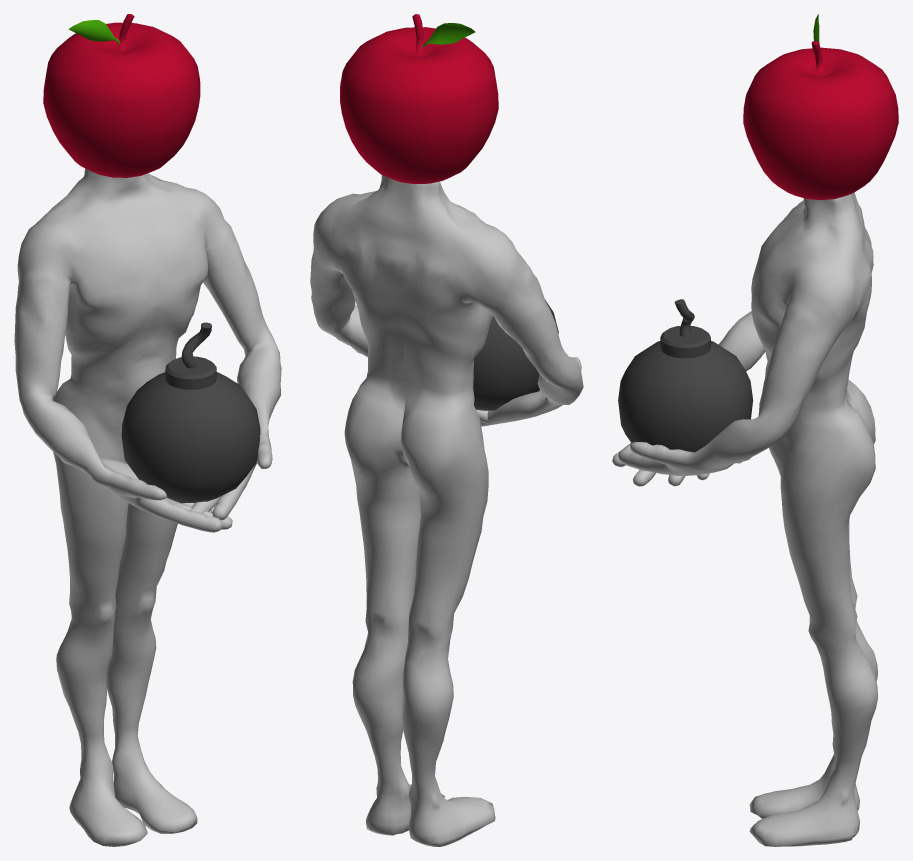
The model's file is applebombHuman.fbx.
3 renders of one model, left to right at view 1: azimuth 30°, elevation 25°; view 2: azimuth 150°, elevation 25°; view 3: azimuth 270°, elevation 25°, orthographic. The views are drawn at different scales.
Parts seen in each view (by area): view 1: body_mesh, apple_mesh, appleBomb:appleBomb_mesh; view 2: body_mesh, apple_mesh, appleBomb:appleBomb_mesh; view 3: body_mesh, apple_mesh, appleBomb:appleBomb_mesh.
Part boxes in pixels (x1=…): body_mesh: x1=14, y1=168, x2=281, y2=846; apple_mesh: x1=43, y1=14, x2=200, y2=177; appleBomb:appleBomb_mesh: x1=121, y1=322, x2=260, y2=503; body_mesh: x1=310, y1=175, x2=583, y2=846; apple_mesh: x1=340, y1=14, x2=498, y2=184; appleBomb:appleBomb_mesh: x1=473, y1=299, x2=558, y2=410; body_mesh: x1=612, y1=192, x2=877, y2=846; apple_mesh: x1=743, y1=14, x2=898, y2=200; appleBomb:appleBomb_mesh: x1=618, y1=299, x2=752, y2=452.
Size of the model in its own units: 54.21 by 166 by 54.54.
